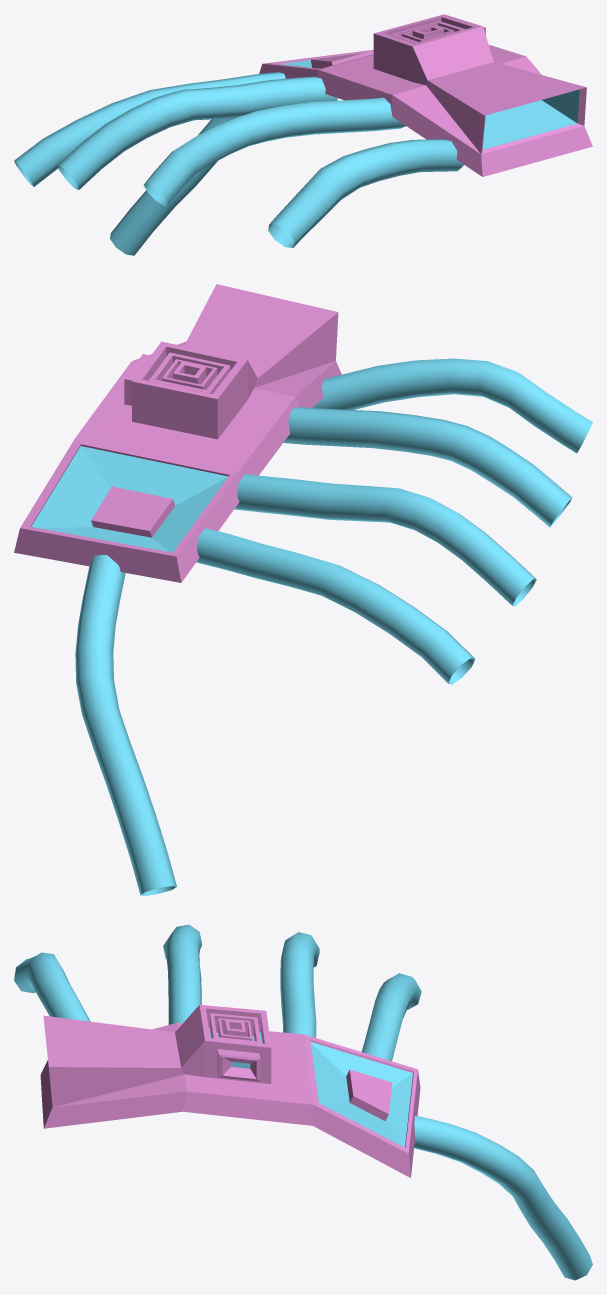
The model's file is ошметок руки.fbx.
3 views of the same model, one above another, from view 1: azimuth 30°, elevation 25°; view 2: azimuth 150°, elevation 25°; view 3: azimuth 270°, elevation 25° (orthographic). The views are drawn at different scales.
Visible parts, largest first — view 1: Plane005.003, Plane005.001; view 2: Plane005.003, Plane005.001; view 3: Plane005.001, Plane005.003.
Part boxes in pixels (box(x1,y1,x2,y2)): Plane005.003: box(14, 72, 463, 255); Plane005.001: box(259, 14, 592, 176); Plane005.003: box(75, 358, 592, 895); Plane005.001: box(14, 284, 341, 582); Plane005.001: box(40, 1004, 420, 1177); Plane005.003: box(14, 924, 592, 1280).
Size of the model in its own units: 206 by 150 by 243.
